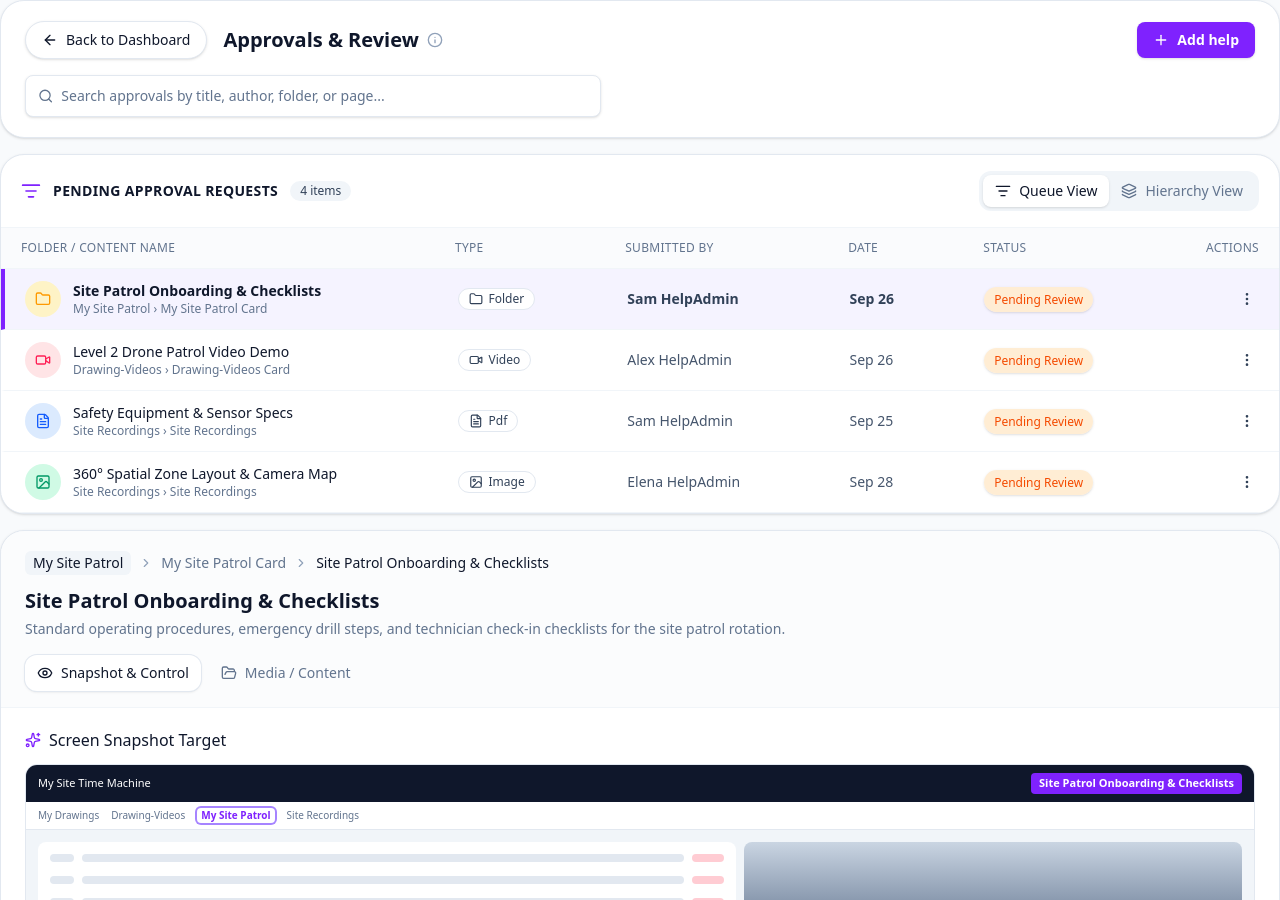
Test case: ApprovalsWorkspace › selecting a row shows it in the detail pane
The image size is (1280, 900).
Expected: the heading "Site Patrol Onboarding & Checklists" is shown, [25,587,380,614]
Click the text "Safety Equipment & Sensor Specs" at x=183, y=413, box [73,403,293,423]
(page scrolled)
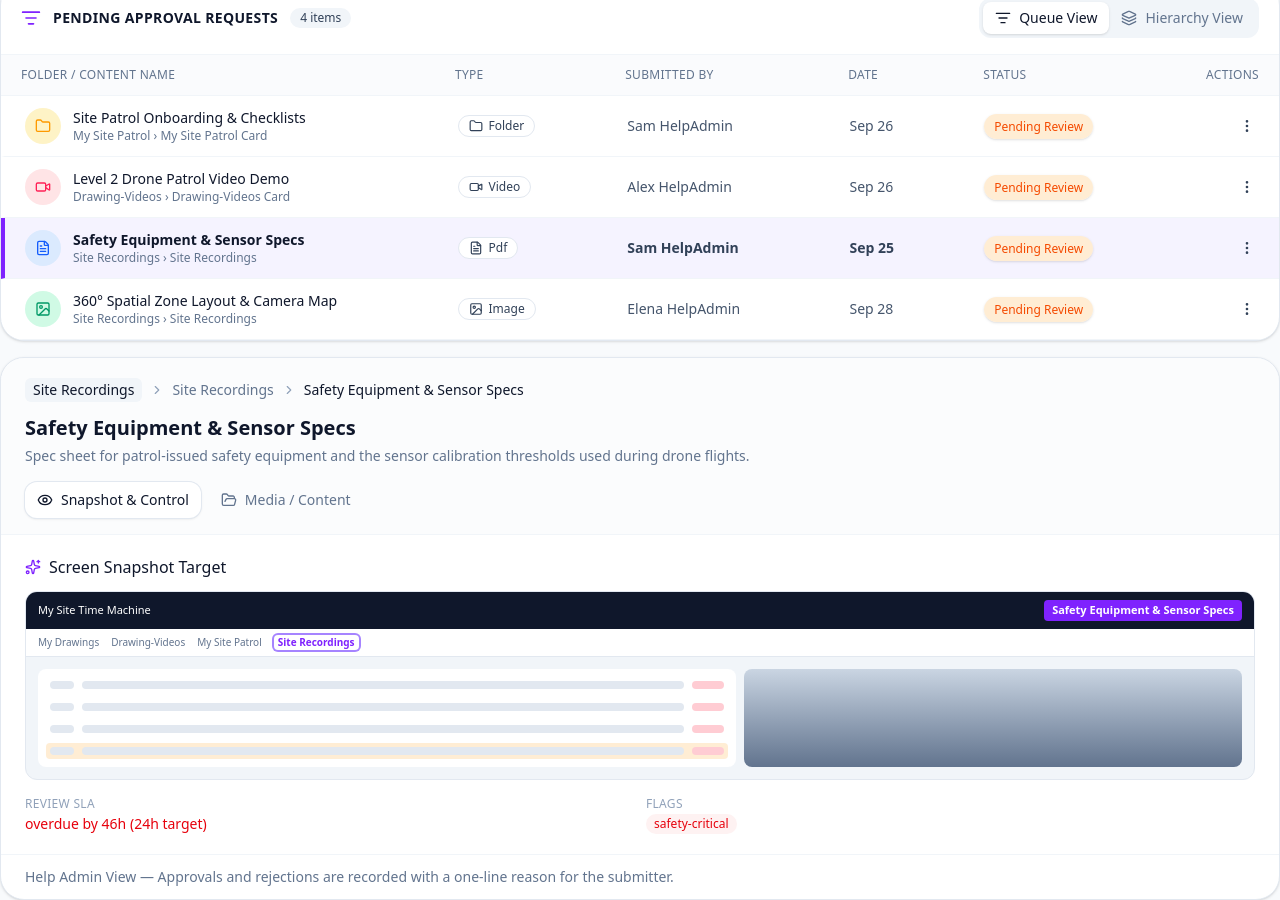
Expected: the heading "Safety Equipment & Sensor Specs" is shown, [25,414,356,441]
Expected: the text "overdue by 46h (24h target)" is shown, [25,814,207,832]
